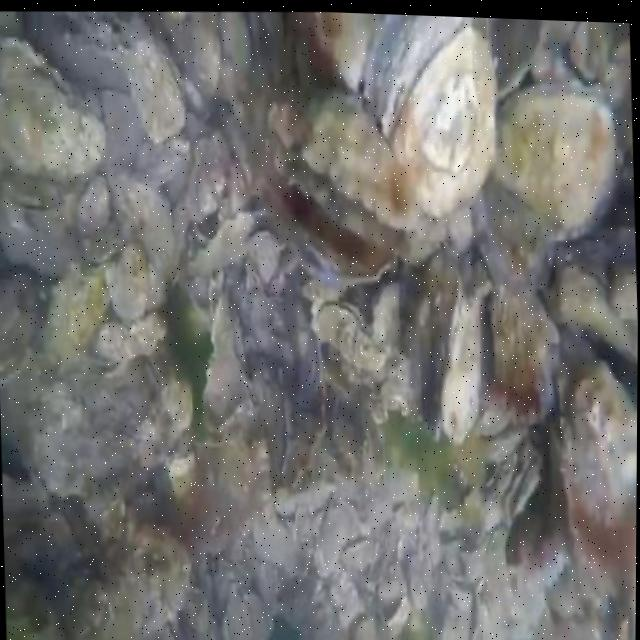Oyster-Closed: (494, 77, 617, 235), (0, 36, 103, 177), (312, 300, 385, 371)
Oyster-Indeterminate: (2, 484, 192, 640), (557, 361, 637, 604), (491, 286, 549, 428), (122, 35, 184, 143), (441, 295, 485, 444), (204, 300, 250, 423), (45, 267, 103, 361), (0, 264, 43, 389), (298, 12, 371, 84), (490, 18, 538, 89)
Oyster-Open: (366, 14, 497, 215), (265, 91, 417, 256), (255, 155, 389, 289)
